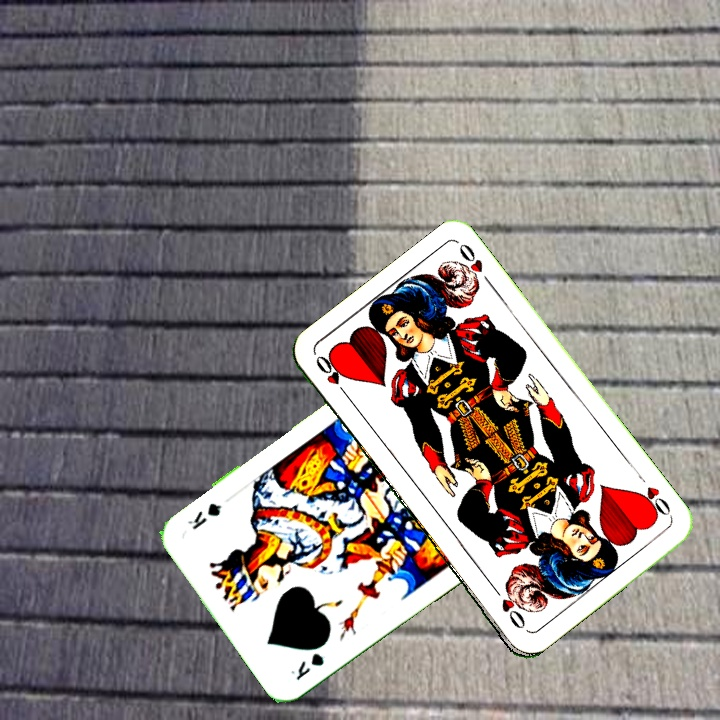GK: (292, 648, 327, 683)
HO: (632, 469, 675, 522), (311, 351, 353, 402)
